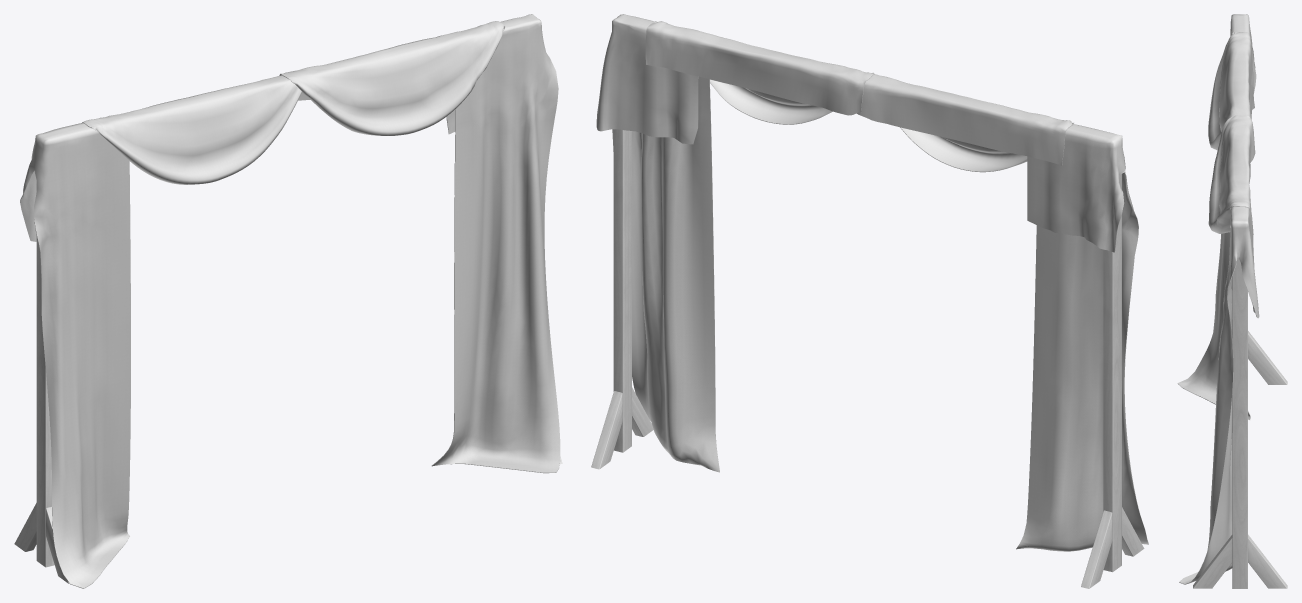
The model's file is EventArch01Cloth01_2.FBX.
The picture shows the model from 3 angles, left to right: view 1: azimuth 30°, elevation 25°; view 2: azimuth 150°, elevation 25°; view 3: azimuth 270°, elevation 25°; orthographic projection. The views are drawn at different scales.
Visible parts, largest first — view 1: EventArch01Cloth01_2; view 2: EventArch01Cloth01_2; view 3: EventArch01Cloth01_2.
Part boxes in pixels (box(x1,y1,x2,y2)): EventArch01Cloth01_2: box(14, 14, 562, 588); EventArch01Cloth01_2: box(591, 14, 1148, 588); EventArch01Cloth01_2: box(1177, 14, 1287, 588).
Size of what is drawn, in the model's own units: 3.29 by 2.58 by 0.6969.
